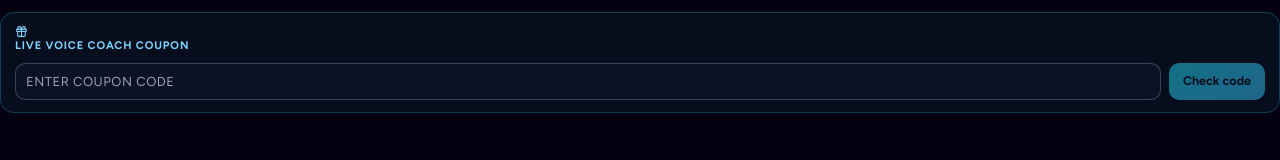
Test: network error while validating preserves the entered code for retry
Type "neterr" into the field with test id "live-coupon-input".
click(588, 81); type("neterr")  # box [15, 62, 1161, 100]
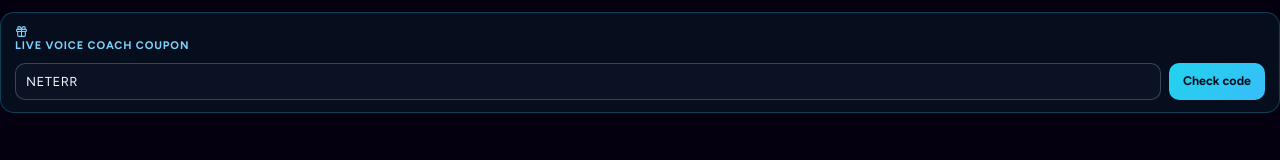
Click the button with test id "live-coupon-check-btn".
click(1217, 81)  # box [1169, 62, 1265, 100]
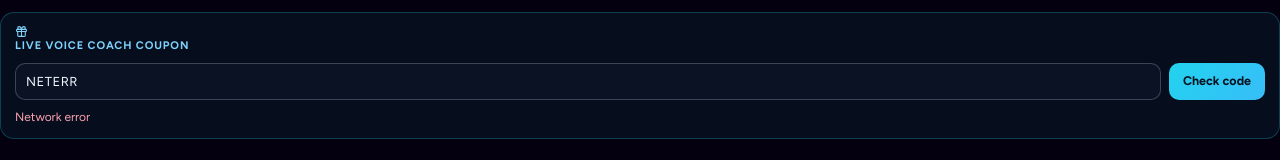
Result: the text "Network error" is shown at [15, 110, 90, 124]
